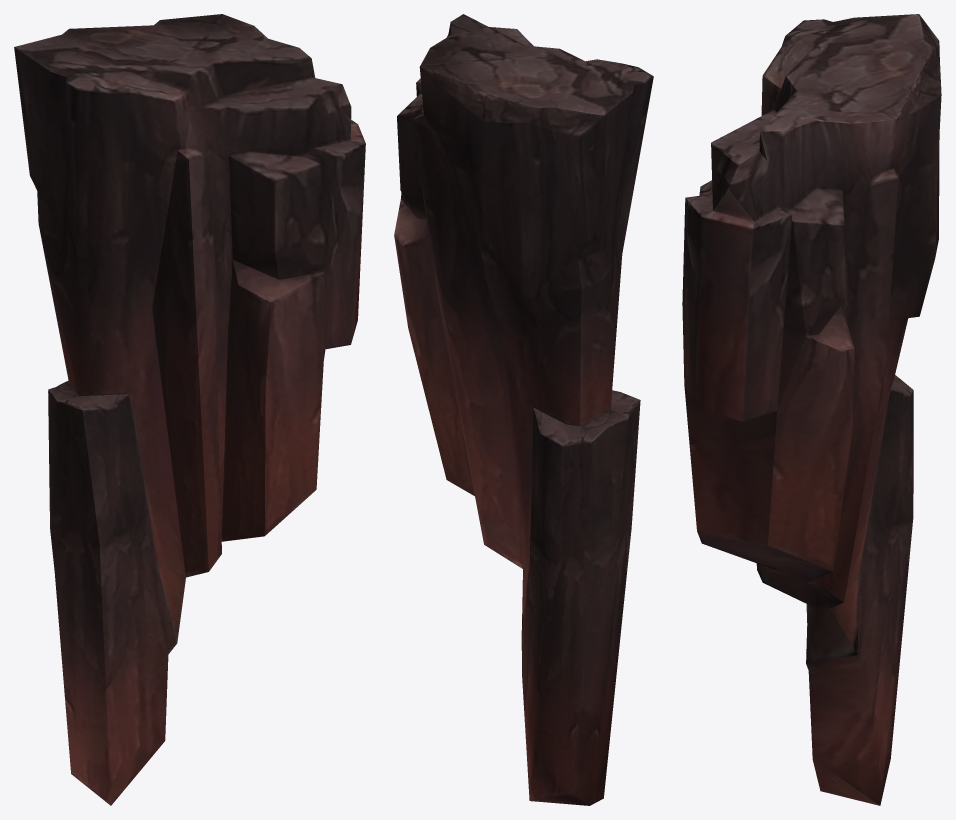
The model's file is sysd_stone03a.FBX.
The picture shows the model from 3 angles, left to right: view 1: azimuth 30°, elevation 25°; view 2: azimuth 150°, elevation 25°; view 3: azimuth 270°, elevation 25°; orthographic projection. The views are drawn at different scales.
Visible parts, largest first — view 1: sysd_stone03a; view 2: sysd_stone03a; view 3: sysd_stone03a.
Part boxes in pixels (x1,y1,x2,y2): sysd_stone03a: [14, 14, 365, 805]; sysd_stone03a: [394, 14, 653, 805]; sysd_stone03a: [682, 14, 941, 805].
Bounding box in the file's own units: 562 × 1502 × 469.
1 material, 1 textured.
